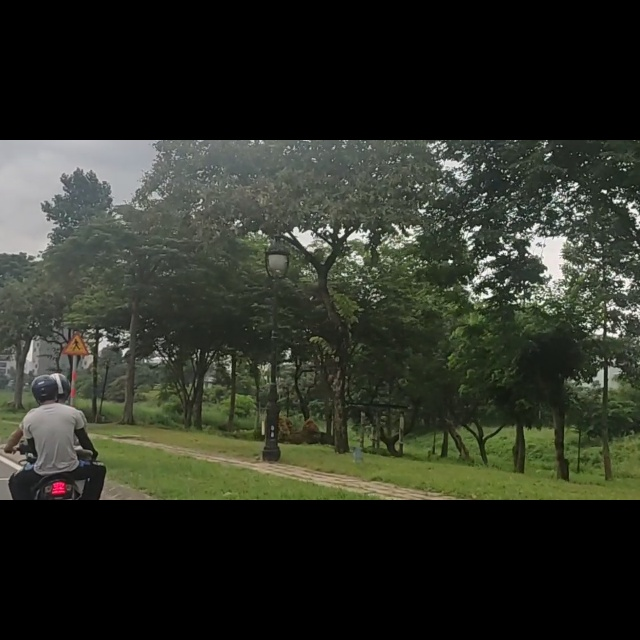bien_nguy_hiem: (62, 343, 89, 382)
